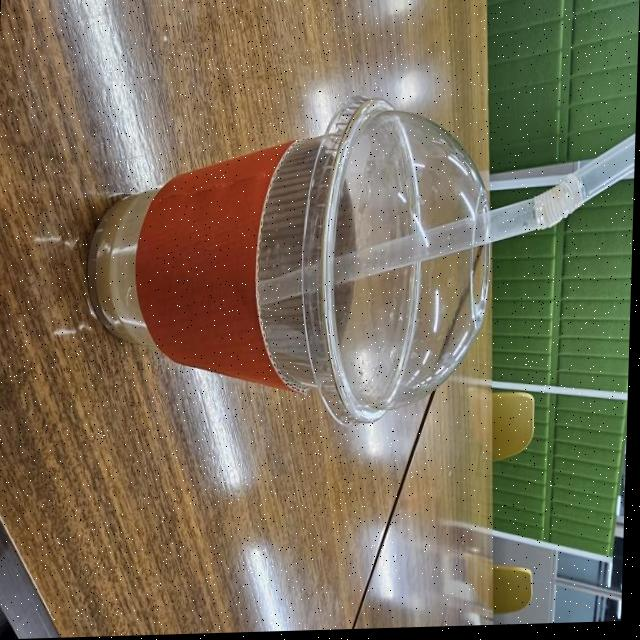cup: (78, 90, 502, 441)
